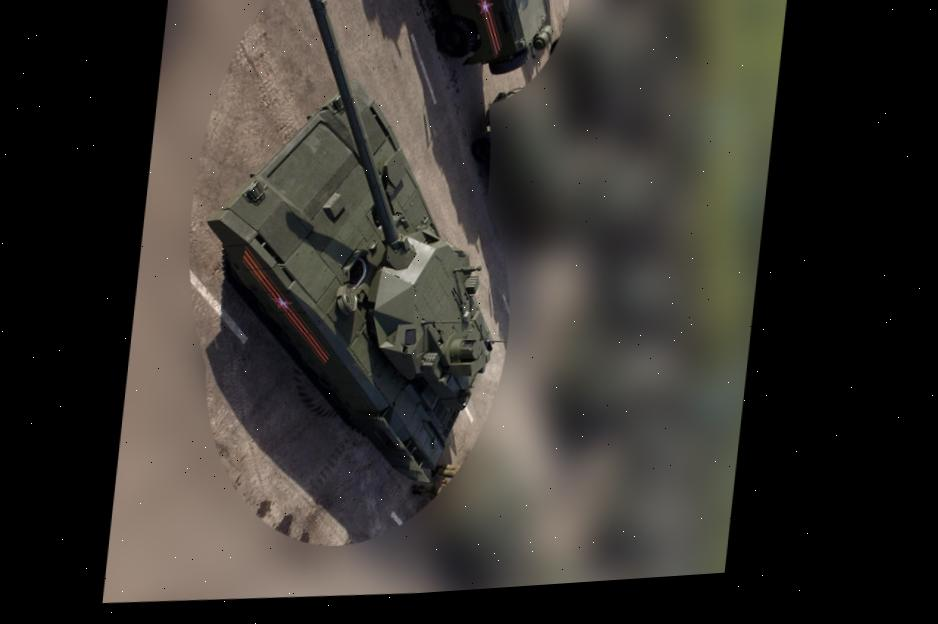armored_car: (367, 0, 571, 87)
tank: (173, 0, 539, 506)
